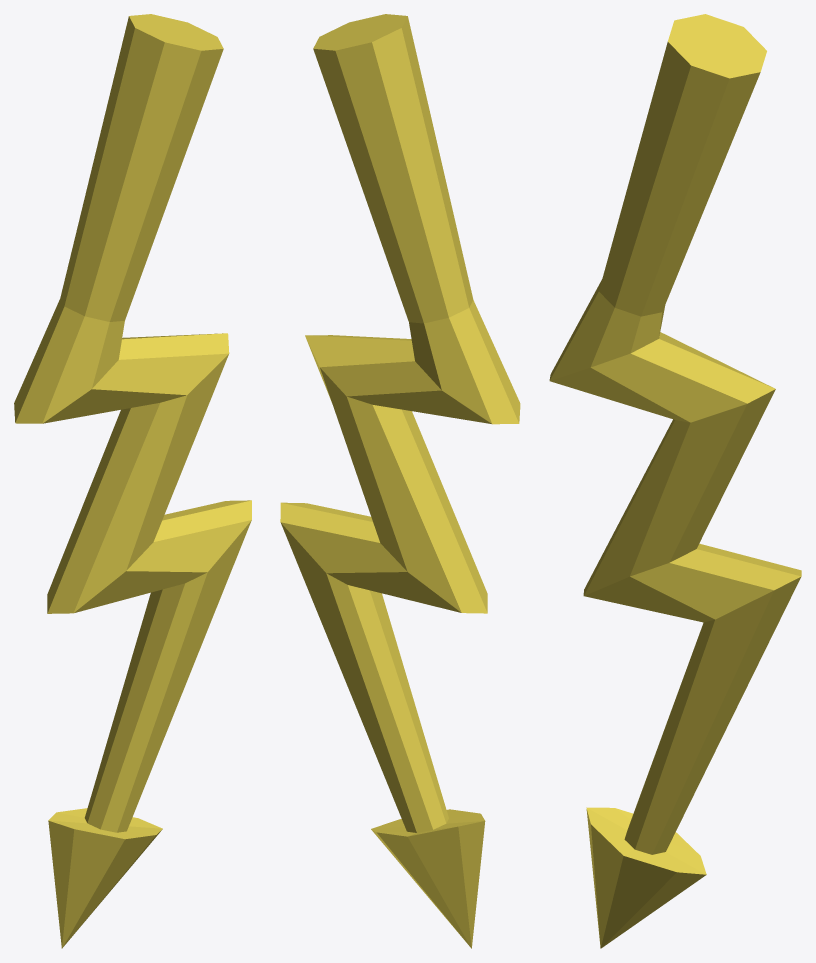
The model's file is Strelca.fbx.
3 renders of one model, left to right at view 1: azimuth 30°, elevation 25°; view 2: azimuth 150°, elevation 25°; view 3: azimuth 330°, elevation 25°, orthographic. The views are drawn at different scales.
Visible parts, largest first — view 1: Cube; view 2: Cube; view 3: Cube.
Boxes of the visible parts, <box> form: Cube: <box>14,14,251,948</box>; Cube: <box>280,14,520,948</box>; Cube: <box>549,14,801,948</box>.
Size of the model in its own units: 45.82 by 166 by 16.76.
